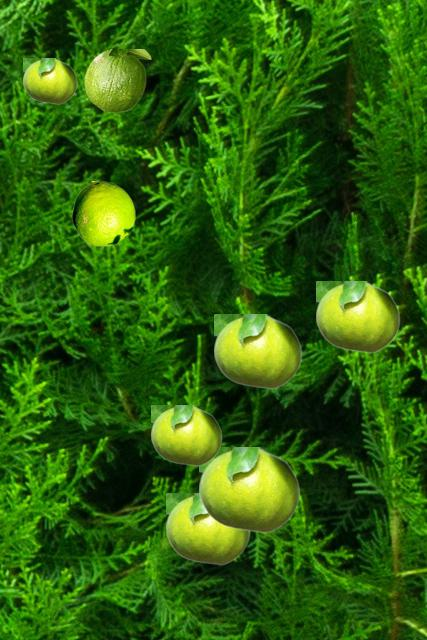dalandan: (199, 447, 299, 532), (214, 314, 301, 388), (316, 281, 399, 352), (166, 493, 249, 564), (151, 405, 221, 465), (84, 49, 150, 111), (72, 181, 134, 245), (23, 58, 76, 103)
